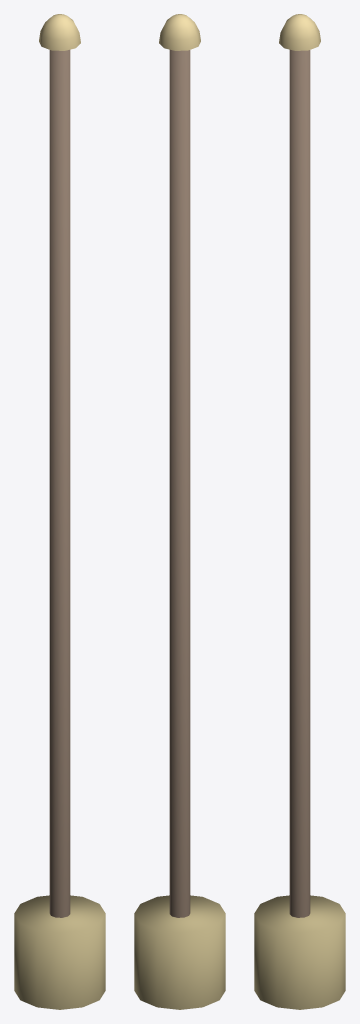
The model's file is flag_pole.glb.
3 renders of one model, left to right at view 1: azimuth 30°, elevation 25°; view 2: azimuth 150°, elevation 25°; view 3: azimuth 330°, elevation 25°, orthographic.
Parts seen in each view (by area): view 1: flag_pole; view 2: flag_pole; view 3: flag_pole.
Part boxes in pixels (x1,y1,x2,y2): flag_pole: (14,14,105,1009); flag_pole: (134,14,225,1009); flag_pole: (254,14,345,1009).
Bounding box in the file's own units: 2.8 × 32.91 × 2.8.
